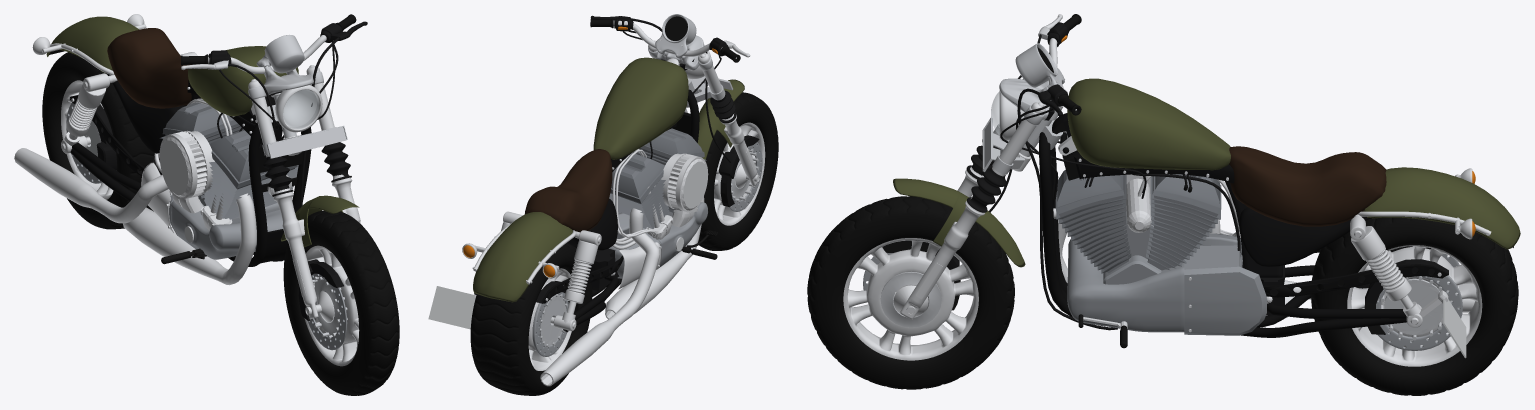
3 views of the same model, side by side, from view 1: azimuth 30°, elevation 25°; view 2: azimuth 150°, elevation 25°; view 3: azimuth 270°, elevation 25° (orthographic). The views are drawn at different scales.
Visible parts, largest first — view 1: Cylinder038_19 - Default_0, Cylinder011_19 - Default_0, Box007_19 - Default_0, Object003_19 - Default_0, Line001_19 - Default_0, Box012_19 - Default_0, Line003, Box002, Cylinder001, Box008_19 - Default_0, Box003, Cylinder047 (+28 smaller); view 2: Cylinder011_19 - Default_0, Box008_19 - Default_0, Plane002, Cylinder038_19 - Default_0, Box007_19 - Default_0, Line003, Box023, Cylinder001, Box003, Line001_19 - Default_0, Cylinder047, Box015 (+24 smaller); view 3: Cylinder038_19 - Default_0, Cylinder011_19 - Default_0, Box008_19 - Default_0, Box007_19 - Default_0, Cylinder039_19 - Default_0, Box003, _19 - Default_0, Object003_19 - Default_0, Plane002, Box002, Box023, Cylinder080_19 - Default_0 (+22 smaller).
Part boxes in pixels (box(x1,y1,x2,y2)): Cylinder038_19 - Default_0: box(283, 210, 399, 395); Cylinder011_19 - Default_0: box(42, 52, 158, 229); Box007_19 - Default_0: box(107, 28, 191, 108); Object003_19 - Default_0: box(70, 80, 311, 266); Line001_19 - Default_0: box(123, 193, 256, 285); Box012_19 - Default_0: box(248, 65, 360, 319); Line003: box(14, 148, 168, 223); Box002: box(204, 130, 298, 219); Cylinder001: box(159, 130, 214, 199); Box008_19 - Default_0: box(188, 46, 298, 116); Box003: box(169, 195, 282, 259); Cylinder047: box(248, 35, 323, 99); Cylinder011_19 - Default_0: box(470, 243, 592, 395); Box008_19 - Default_0: box(593, 57, 688, 159); Plane002: box(473, 212, 572, 302); Cylinder038_19 - Default_0: box(698, 92, 778, 250); Box007_19 - Default_0: box(524, 149, 612, 232); Line003: box(540, 208, 659, 386); Box023: box(609, 153, 669, 228); Cylinder001: box(661, 153, 708, 212); Box003: box(609, 202, 707, 278); Line001_19 - Default_0: box(605, 196, 704, 319); Cylinder047: box(648, 14, 712, 70); Box015: box(428, 286, 475, 329); Cylinder038_19 - Default_0: box(807, 196, 1014, 389); Cylinder011_19 - Default_0: box(1311, 217, 1518, 395); Box008_19 - Default_0: box(1067, 78, 1230, 170); Box007_19 - Default_0: box(1229, 146, 1386, 226); Cylinder039_19 - Default_0: box(843, 238, 978, 360); Box003: box(1067, 233, 1242, 332); _19 - Default_0: box(1184, 245, 1266, 335); Object003_19 - Default_0: box(1039, 113, 1406, 337); Plane002: box(1363, 167, 1520, 249); Box002: box(1055, 170, 1131, 273); Box023: box(1146, 174, 1221, 270); Cylinder080_19 - Default_0: box(1347, 245, 1482, 366).
Bounding box in the file's own units: 66.6 × 104 × 196.
